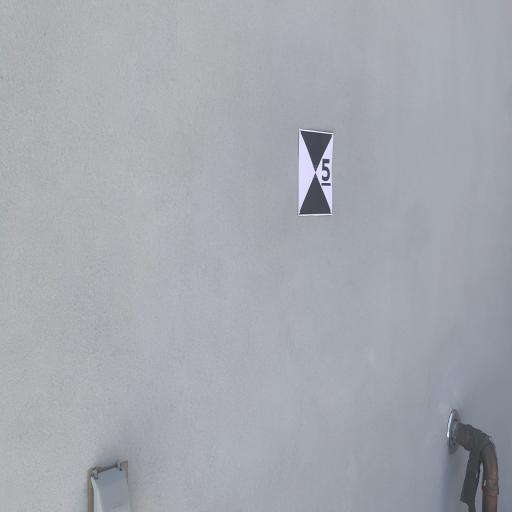target5: (298, 128, 333, 216)
